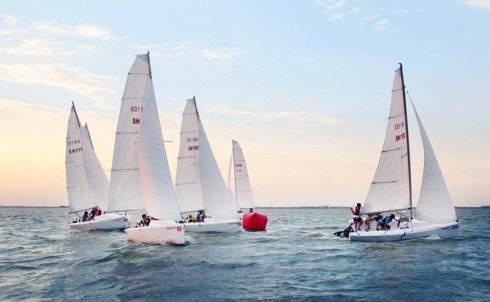fanchuan: (340, 59, 459, 242), (107, 48, 188, 247), (167, 95, 243, 235), (60, 104, 128, 232)
